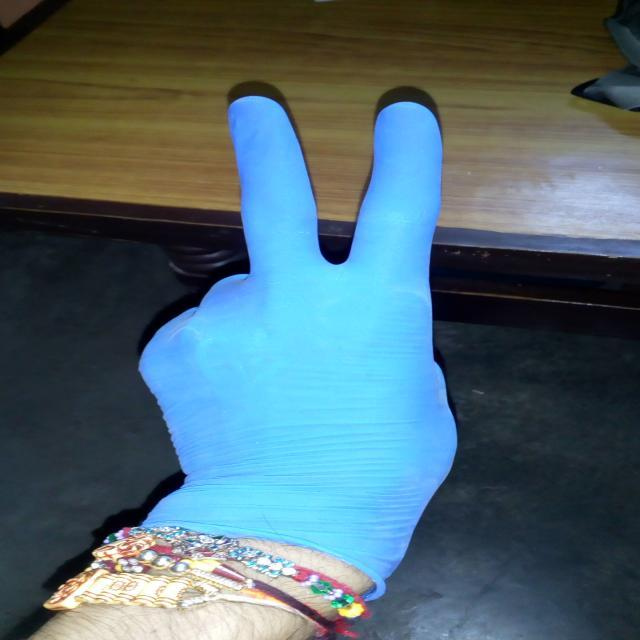glove_hand: (103, 90, 476, 614)
